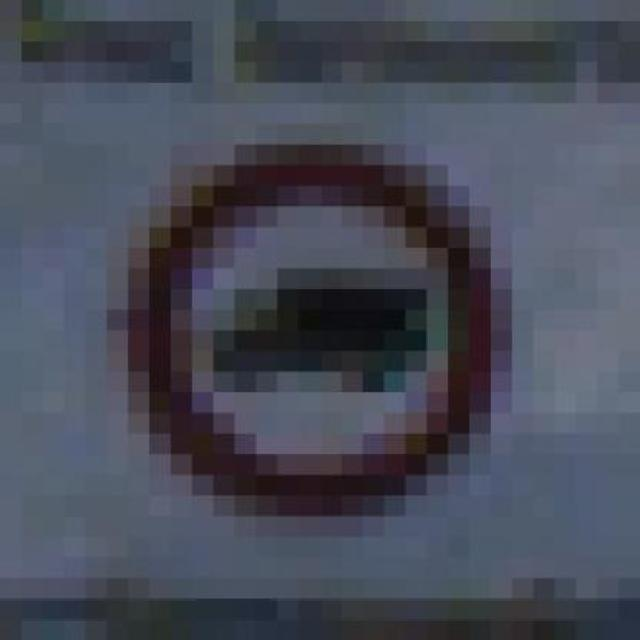Truck traffic is prohibited: (106, 123, 534, 537)
